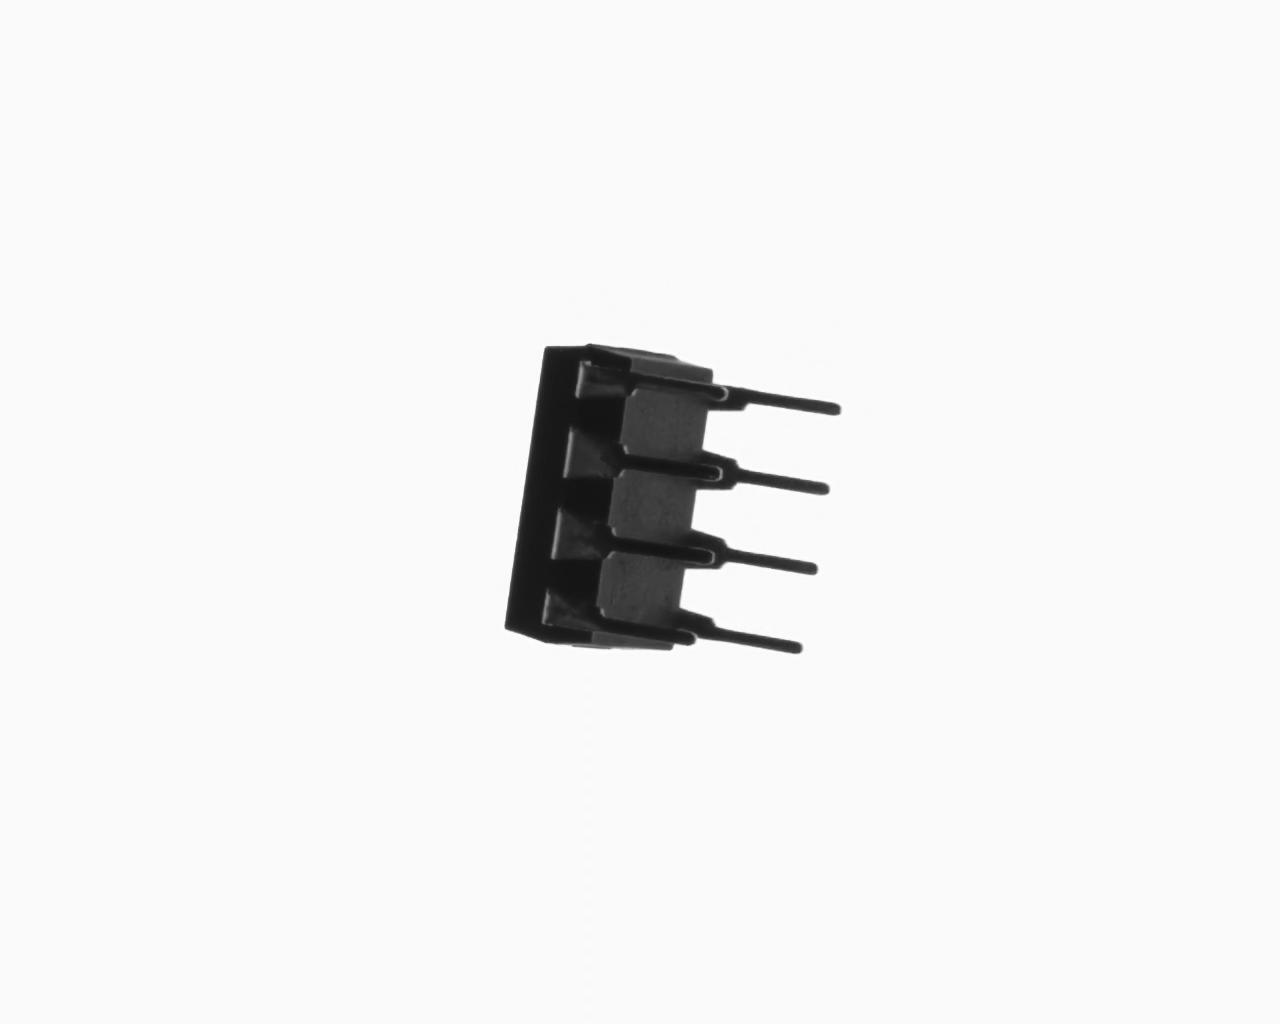Leg: (571, 436, 726, 489), (689, 527, 818, 588), (540, 604, 697, 654), (581, 363, 728, 412), (581, 529, 716, 575), (672, 613, 801, 660), (707, 385, 843, 427), (691, 455, 831, 494)
